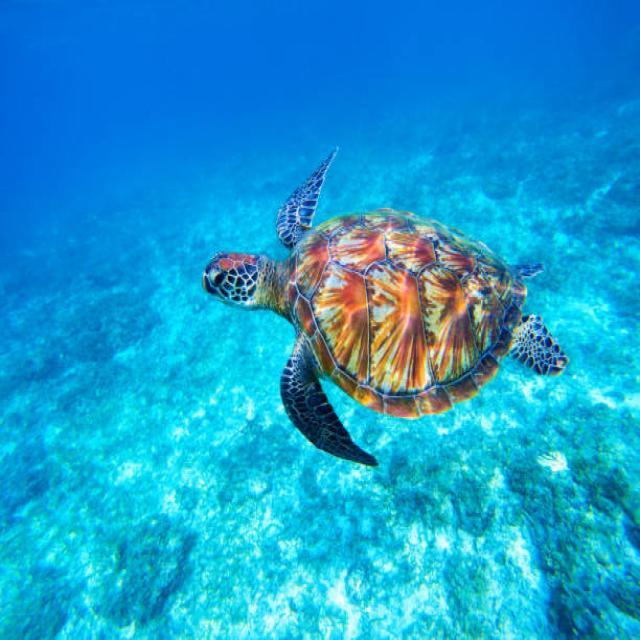tortoise: (198, 150, 566, 464)
